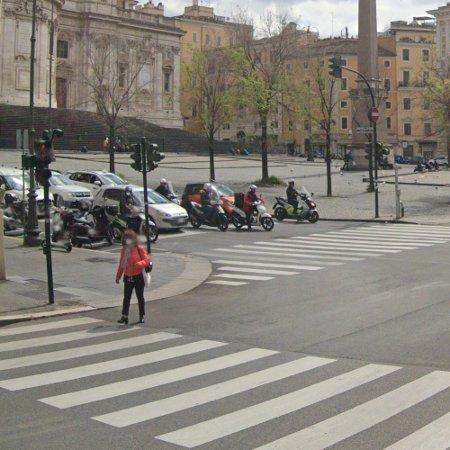crosswalks: (199, 223, 450, 290)
